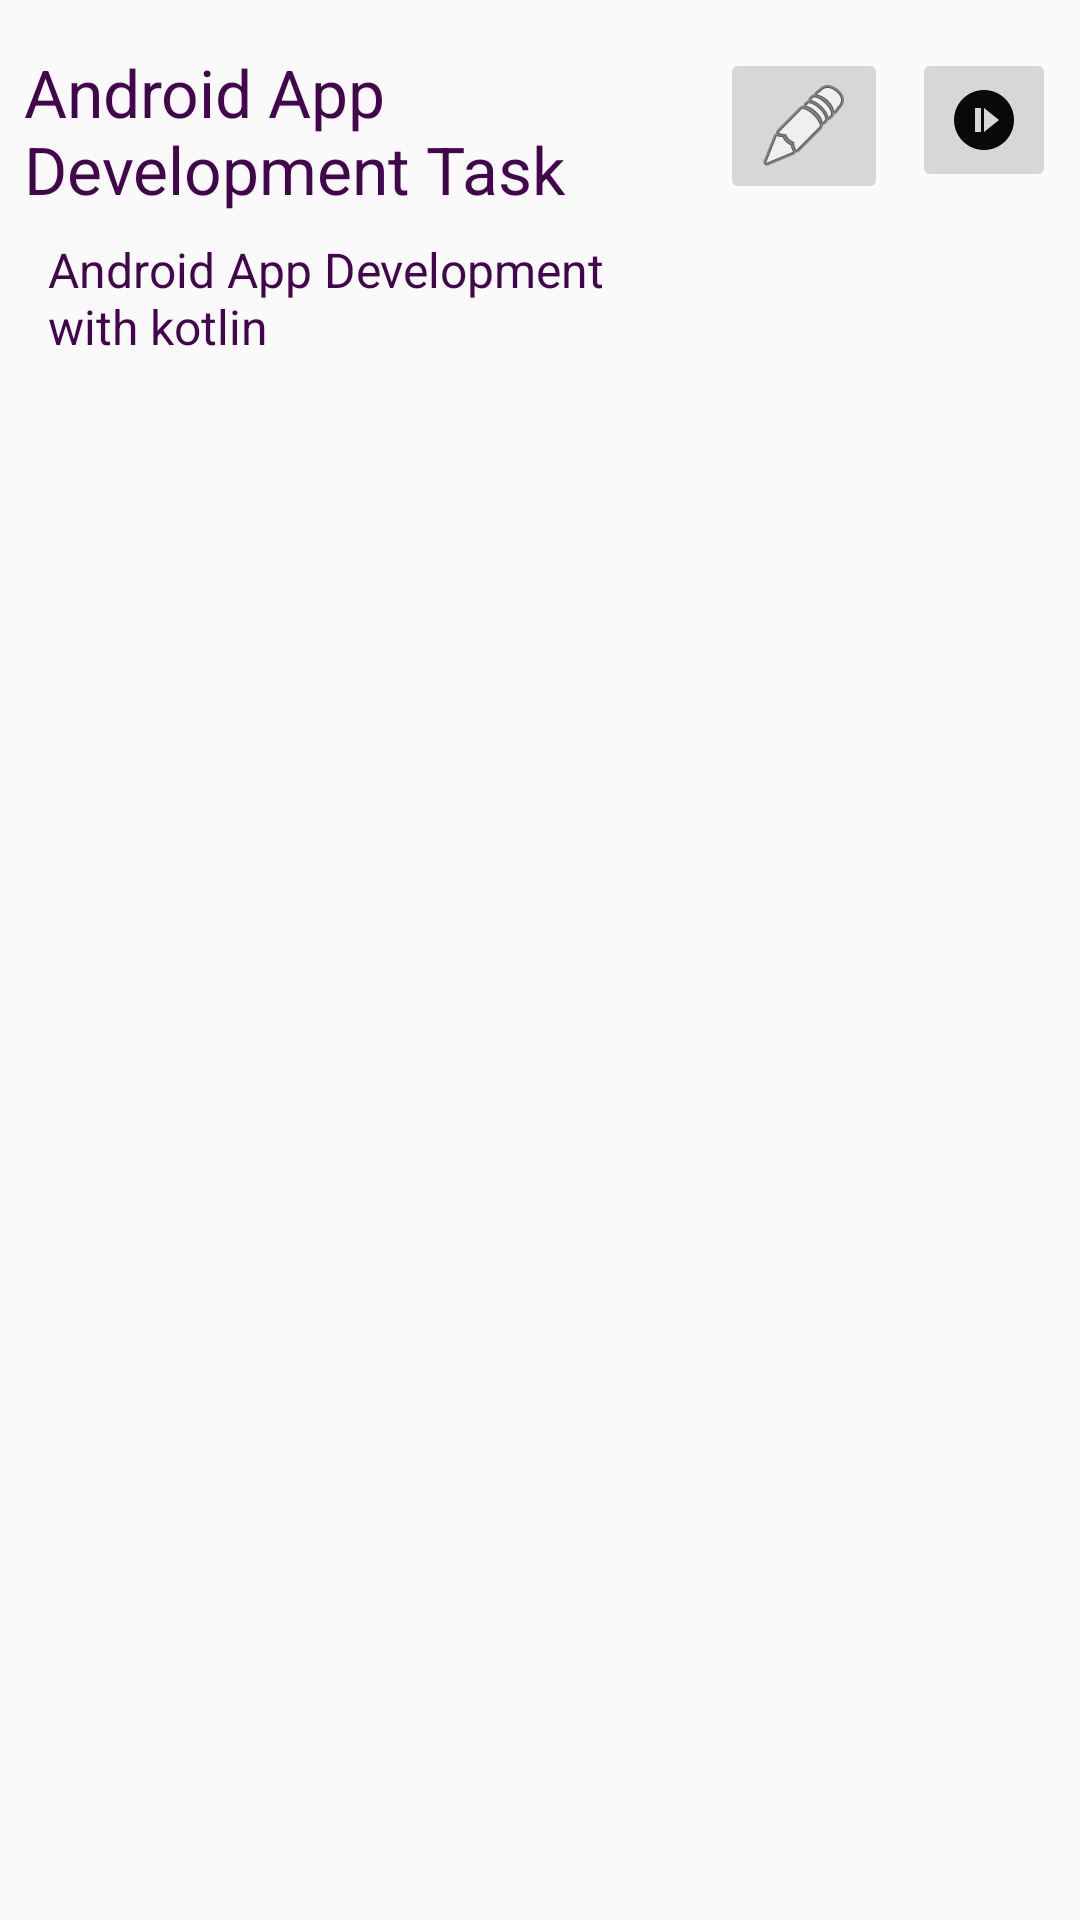

Icon bounding boxes for this 1080px x 1920px phone screenshot, format [x1,y1,x2,y2]:
edit: [732,66,876,186]
